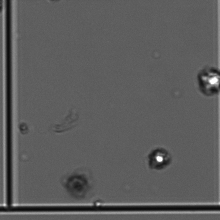Dead Cell: (64, 167, 95, 199)
Living Cell: (196, 62, 219, 100), (146, 142, 174, 173)
